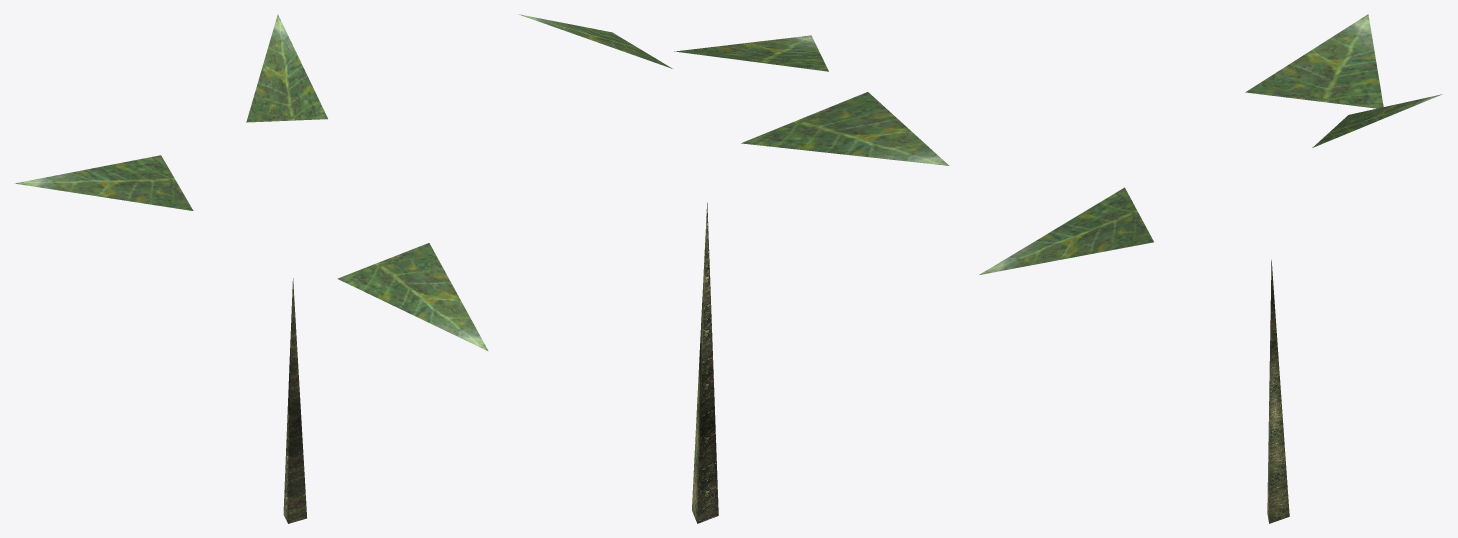
File: leaf_smallflora_l3.fbx
3 views of the same model, side by side, from view 1: azimuth 30°, elevation 25°; view 2: azimuth 150°, elevation 25°; view 3: azimuth 270°, elevation 25° (orthographic). The views are drawn at different scales.
Parts seen in each view (by area): view 1: mesh_node; view 2: mesh_node; view 3: mesh_node.
Boxes of the visible parts, <box> form: mesh_node: <box>14,14,488,523</box>; mesh_node: <box>519,14,949,523</box>; mesh_node: <box>979,14,1442,523</box>.
Size of the model in its own units: 0.859 by 1.13 by 1.04.
Materials: 2 (2 with a texture image).
